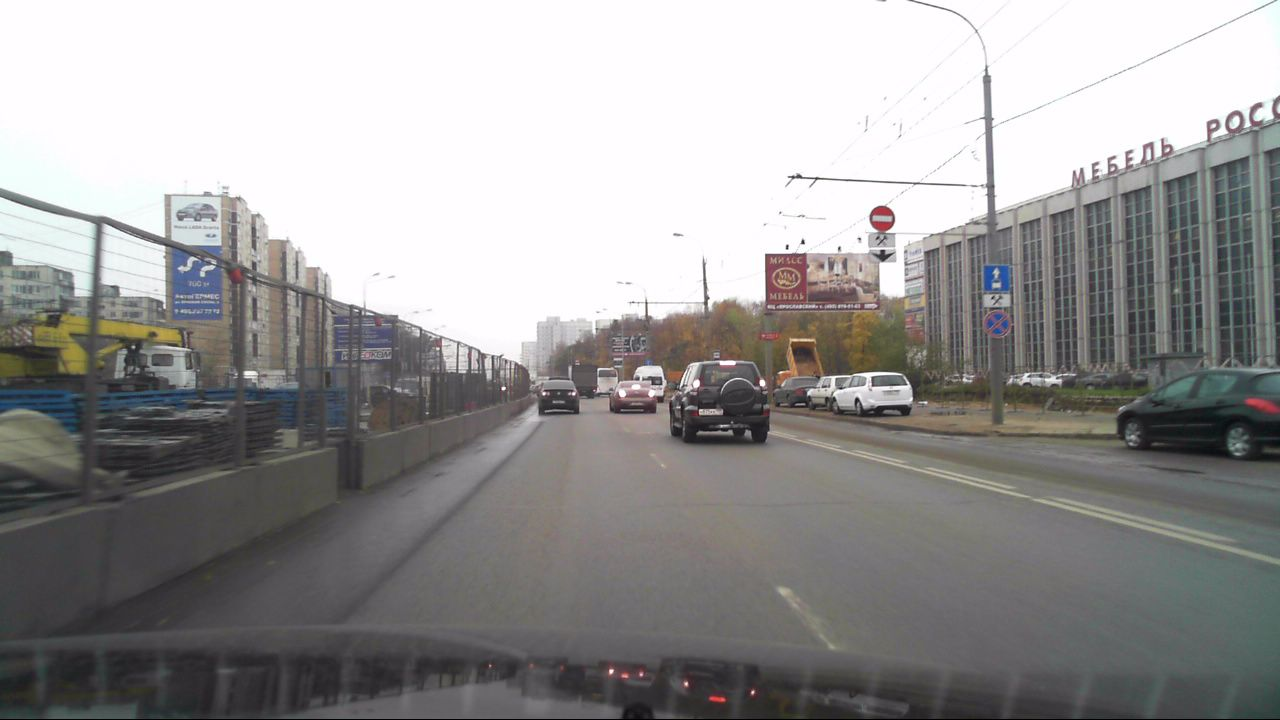No Parking: (983, 310, 1011, 338)
